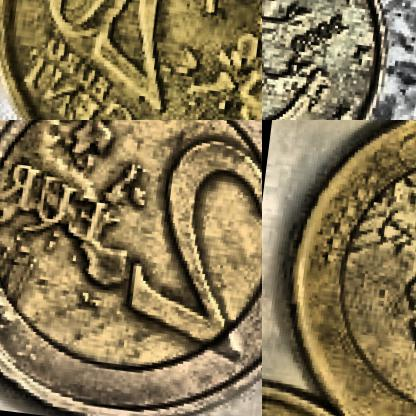coin: (0, 120, 261, 415), (267, 120, 415, 415), (0, 0, 261, 119), (262, 0, 403, 119)
